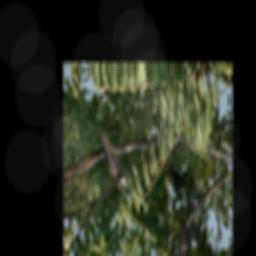Cuckoo: (96, 125, 130, 193)
